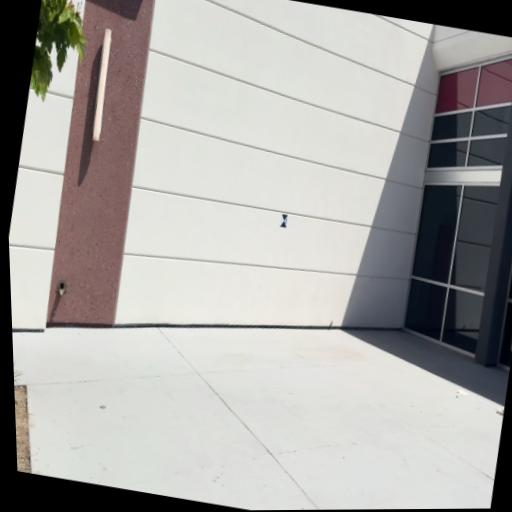target7: (278, 213, 288, 227)
